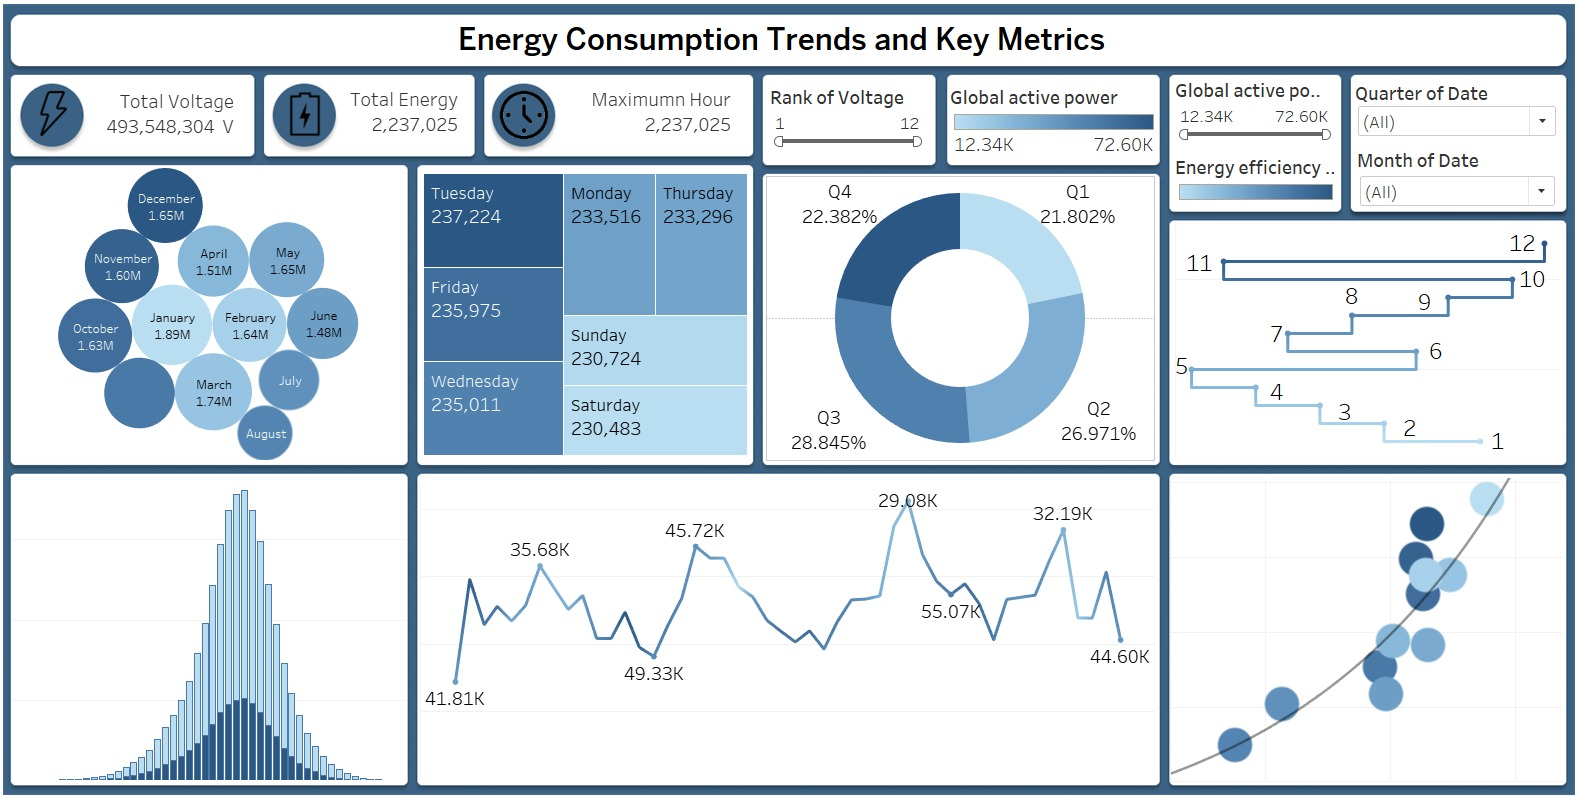

Layout of this report page (visuals, bound fields, positions):
{"tool":"tableau","page":{"name":"Dashboard 1","canvas":[1600,815],"ordinal":0},"visuals":[{"type":"image","param":"E:/Data Science/Data_Science_Project/Dashboard.png","box":[8,8,1584,799]},{"type":"worksheet","title":"T","mark":"Automatic","box":[463,26,668,45]},{"type":"filter","title":"T4","param":"[federated.1ibqc5r00kqat3101ubxd1pmlfgb].[sum:Global_active_power:qk]","box":[1184,85,160,72]},{"type":"filter","title":"T2","param":"[federated.1ibqc5r00kqat3101ubxd1pmlfgb].[qr:Date:ok]","box":[1364,88,204,57]},{"type":"filter","title":"T7","param":"[federated.1ibqc5r00kqat3101ubxd1pmlfgb].[usr:Calculation_529172968457187331:qk]","box":[779,92,156,69]},{"type":"legend","title":"T4","param":"[federated.1ibqc5r00kqat3101ubxd1pmlfgb].[sum:Global_active_power:qk]","box":[959,92,208,72]},{"type":"worksheet","title":"KPI 3","mark":"Automatic","box":[351,94,128,54]},{"type":"worksheet","title":"KPI 1","mark":"Automatic","box":[584,94,162,56]},{"type":"worksheet","title":"KPI 2","mark":"Automatic","box":[107,96,155,53]},{"type":"image","param":"E:/Data Science/Data_Science_Project/Icons/icons8-hour-50.png","box":[506,96,54,55]},{"type":"image","param":"E:/Data Science/Data_Science_Project/Icons/icons8-electricity-50.png","box":[37,97,49,50]},{"type":"image","param":"E:/Data Science/Data_Science_Project/Icons/icons8-battery-50-2.png","box":[289,98,50,49]},{"type":"filter","title":"T9","param":"[federated.1ibqc5r00kqat3101ubxd1pmlfgb].[mn:Date:ok]","box":[1366,155,201,63]},{"type":"legend","title":"T10","param":"[federated.1ibqc5r00kqat3101ubxd1pmlfgb].[sum:Energy_efficiency_score:qk]","box":[1184,162,162,54]},{"type":"worksheet","title":"T9","mark":"Circle","box":[21,176,392,292]},{"type":"worksheet","title":"T10","mark":"Automatic","box":[428,177,332,290]},{"type":"worksheet","title":"T2","mark":"Pie","rows":["Calculation_529172968509923346","Calculation_529172968509923346"],"box":[775,184,389,285]},{"type":"worksheet","title":"T7","mark":"Automatic","rows":["Calculation_529172968457187331"],"cols":["Date"],"box":[1184,233,385,234]},{"type":"worksheet","title":"T3","mark":"Automatic","rows":["Calculation_529172968463826951"],"cols":["Voltage (bin)"],"box":[20,484,395,304]},{"type":"worksheet","title":"T6","mark":"Automatic","rows":["Unmetered_power"],"cols":["Total_sub_metering"],"box":[1179,486,393,304]},{"type":"worksheet","title":"T4","mark":"Automatic","rows":["Global_reactive_power"],"cols":["Datetime"],"box":[429,493,735,294]}]}

Visuals, with their boxes in screenshot pixels (x1, y1, x2, y2), scaled from the page's 1600x815 canvas onto the 1577x797 screenshot:
image: locate(8, 8, 1569, 789)
"T" worksheet: locate(456, 25, 1115, 69)
"T4" filter: locate(1167, 83, 1325, 154)
"T2" filter: locate(1344, 86, 1545, 142)
"T7" filter: locate(768, 90, 922, 157)
"T4" legend: locate(945, 90, 1150, 160)
"KPI 3" worksheet: locate(346, 92, 472, 145)
"KPI 1" worksheet: locate(576, 92, 735, 147)
"KPI 2" worksheet: locate(105, 94, 258, 146)
image: locate(499, 94, 552, 148)
image: locate(36, 95, 85, 144)
image: locate(285, 96, 334, 144)
"T9" filter: locate(1346, 152, 1544, 213)
"T10" legend: locate(1167, 158, 1327, 211)
"T9" worksheet (Circle marks): locate(21, 172, 407, 458)
"T10" worksheet: locate(422, 173, 749, 457)
"T2" worksheet (Pie marks): locate(764, 180, 1147, 459)
"T7" worksheet: locate(1167, 228, 1546, 457)
"T3" worksheet: locate(20, 473, 409, 771)
"T6" worksheet: locate(1162, 475, 1549, 773)
"T4" worksheet: locate(423, 482, 1147, 770)
